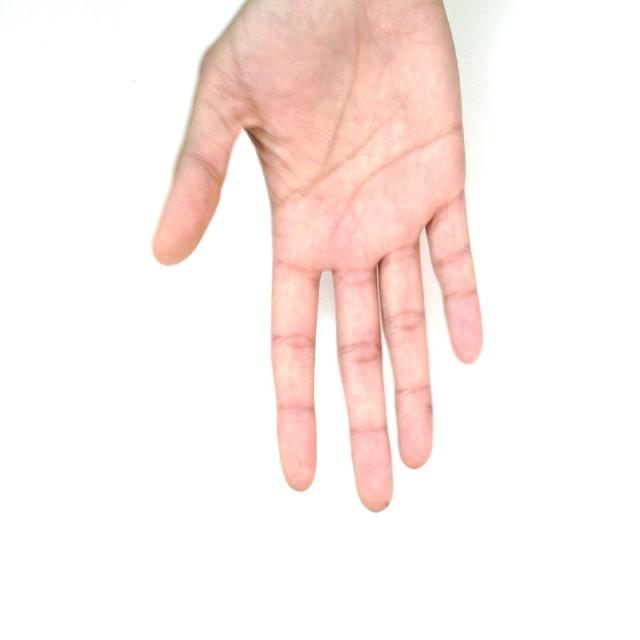others: (150, 0, 539, 517)
